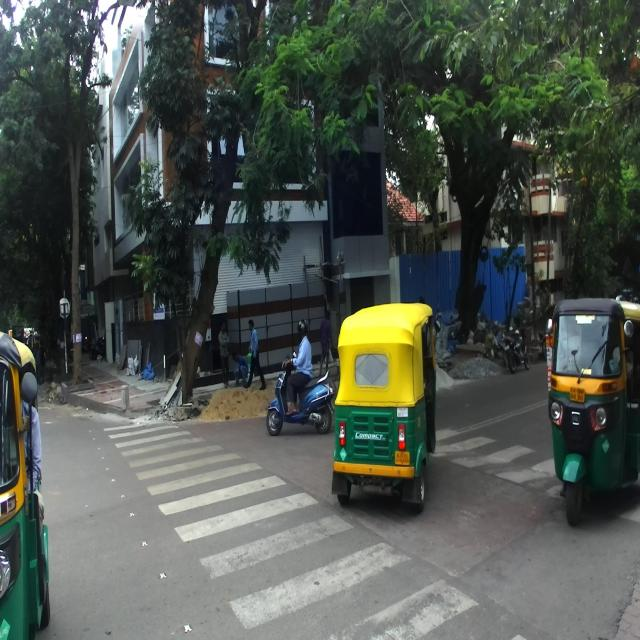autorickshaw: (332, 302, 441, 512), (546, 295, 639, 536), (0, 326, 54, 636)
scooter: (266, 350, 336, 438)
